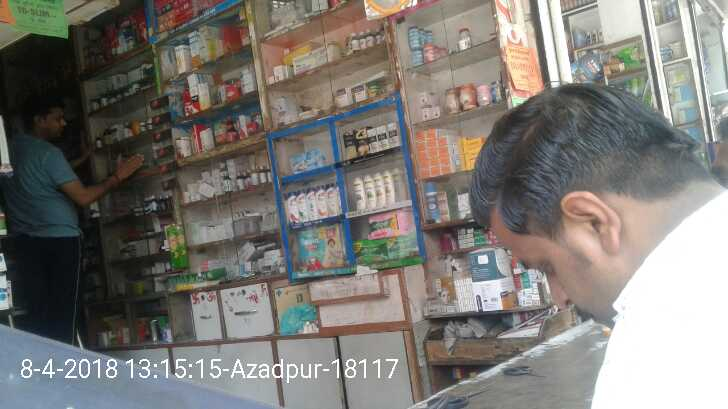venus: (285, 145, 330, 177)
